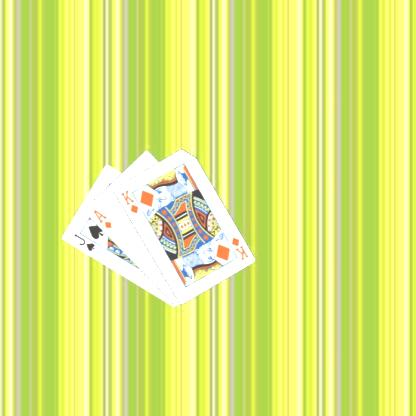AD: (90, 207, 112, 230)
JS: (71, 231, 96, 253)
KD: (228, 234, 250, 262), (118, 187, 139, 215)
